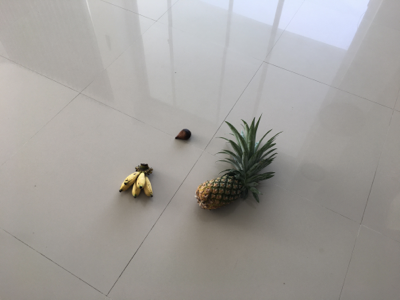banana: (120, 163, 154, 202)
pineapple: (196, 114, 281, 212)
snake fruit: (174, 129, 193, 142)
